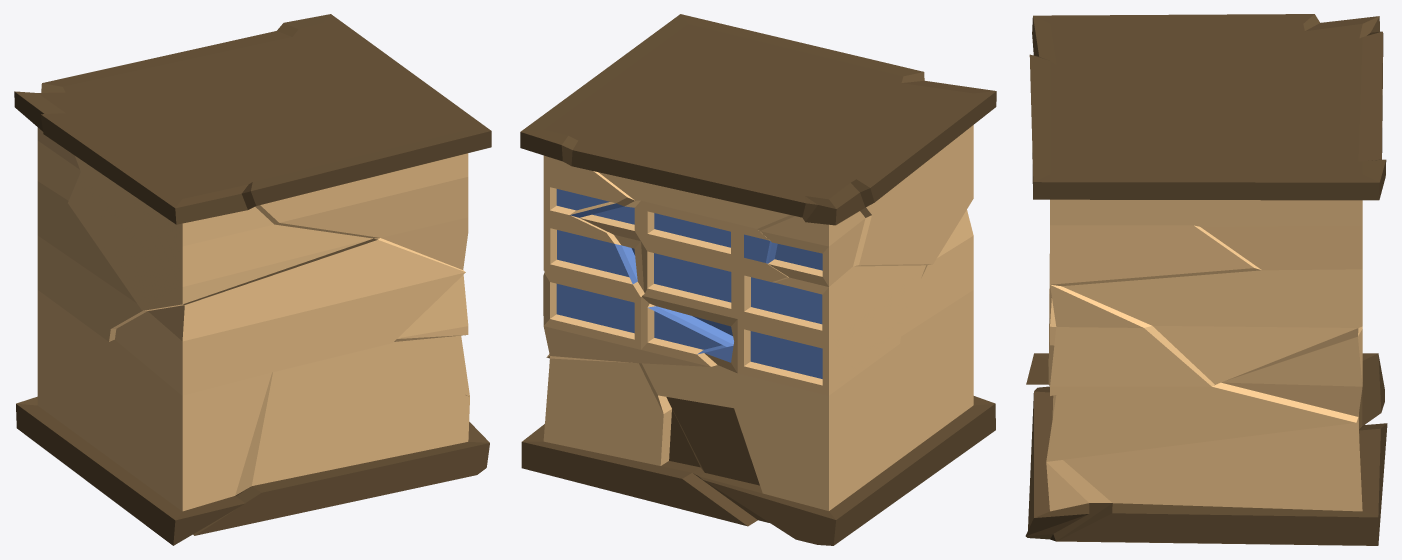
File: T1-Newest2.fbx
The picture shows the model from 3 angles, left to right: view 1: azimuth 30°, elevation 25°; view 2: azimuth 150°, elevation 25°; view 3: azimuth 270°, elevation 25°; orthographic projection. The views are drawn at different scales.
Visible parts, largest first — view 1: Cube.004; view 2: Cube.004; view 3: Cube.004.
Boxes of the visible parts, left/top/right/bottom form: Cube.004: left=14, top=14, right=491, bottom=545; Cube.004: left=520, top=14, right=996, bottom=545; Cube.004: left=1025, top=14, right=1387, bottom=545.
Bounding box in the file's own units: 697 × 706 × 629.
